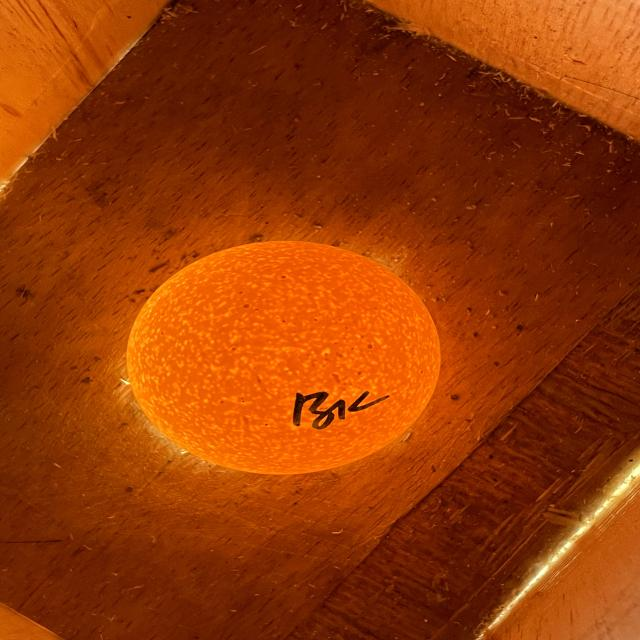infertile: (127, 241, 440, 474)
